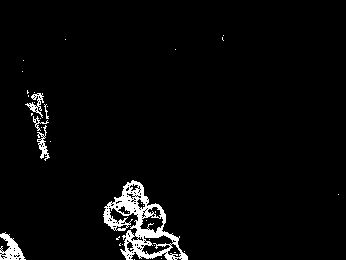person: (116, 200, 189, 260), (25, 91, 54, 162)
